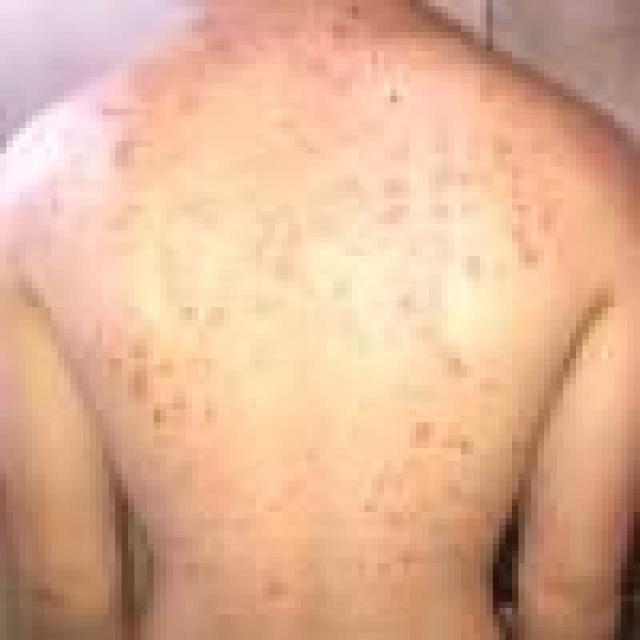Acne: (143, 18, 596, 556), (130, 126, 261, 544), (440, 104, 620, 315), (401, 372, 556, 531), (251, 19, 446, 111), (490, 143, 569, 273)
